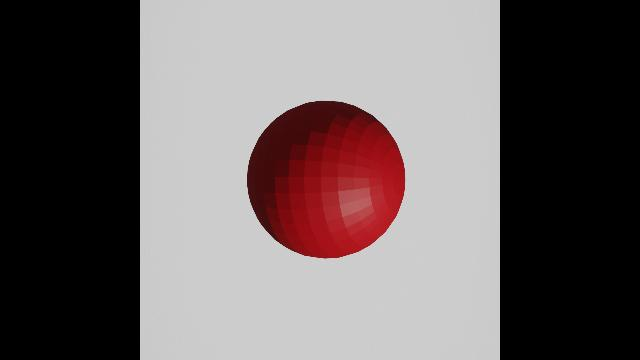Sphere: (245, 92, 409, 266)
